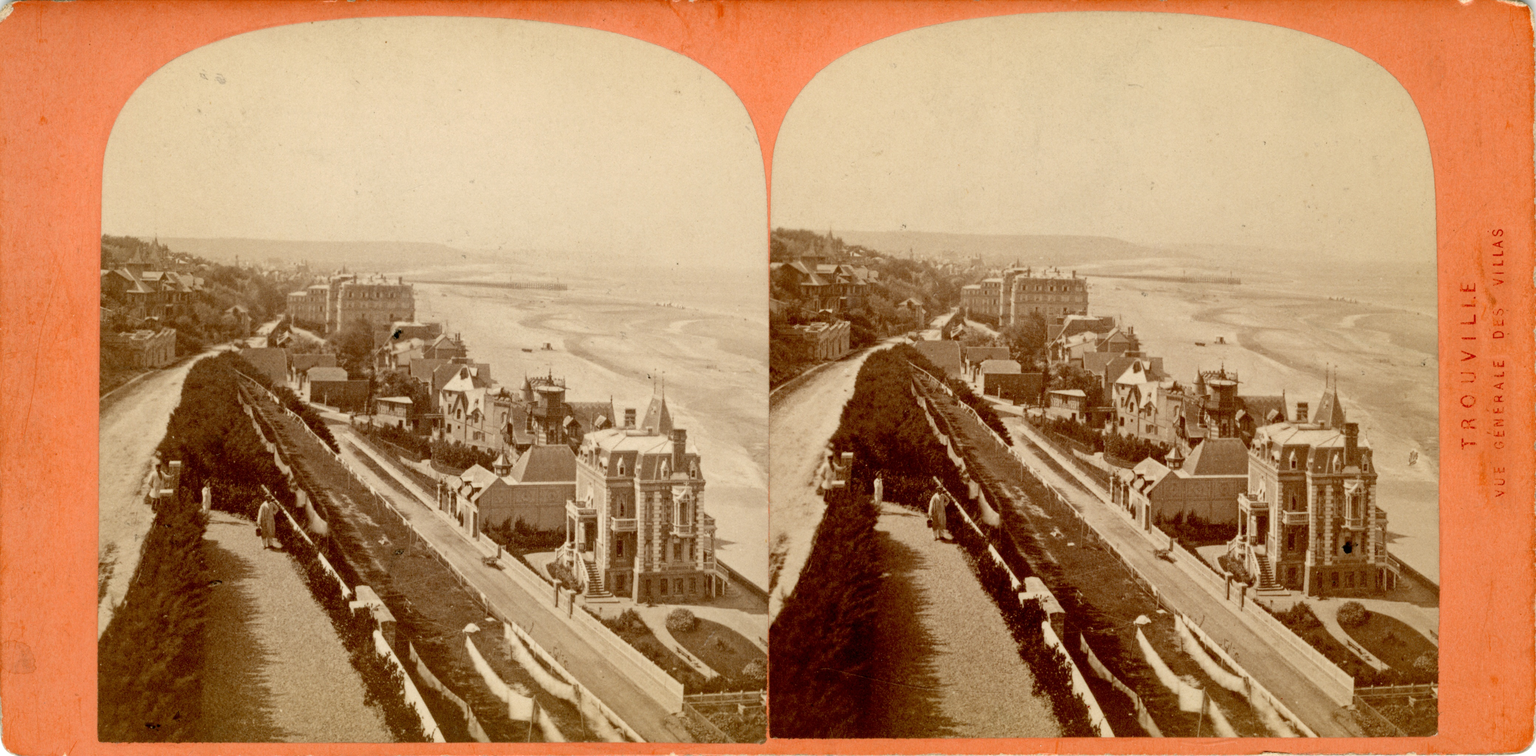half_image: (98, 17, 769, 743), (770, 13, 1437, 738)
